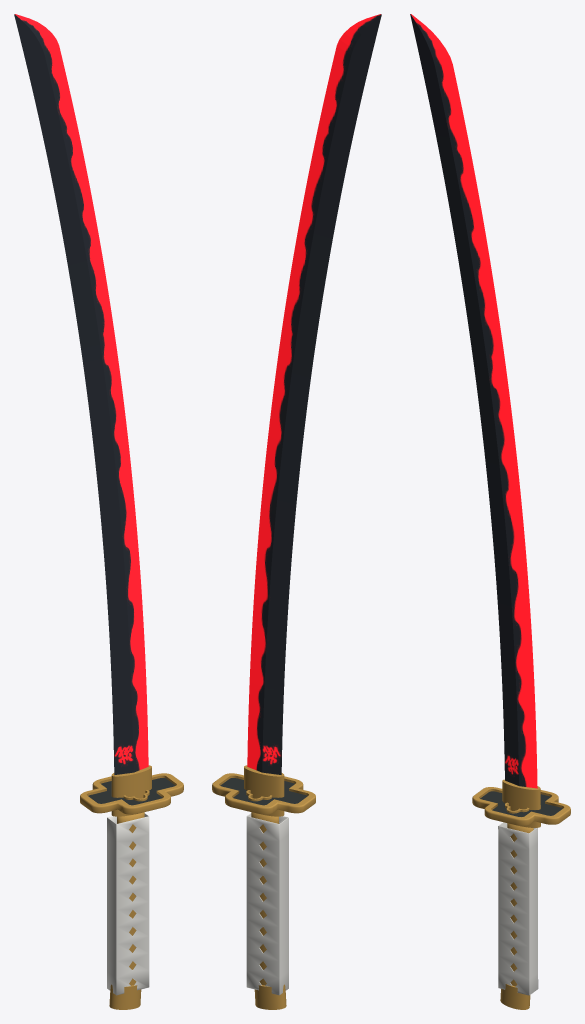
Rendered from RedNichirinKatana.glb.
The picture shows the model from 3 angles, left to right: view 1: azimuth 30°, elevation 25°; view 2: azimuth 150°, elevation 25°; view 3: azimuth 330°, elevation 25°; orthographic projection. The views are drawn at different scales.
Parts seen in each view (by area): view 1: RedNichirinKatana; view 2: RedNichirinKatana; view 3: RedNichirinKatana.
Part boxes in pixels (<box>): RedNichirinKatana: <box>14,14,183,1009</box>; RedNichirinKatana: <box>212,14,381,1009</box>; RedNichirinKatana: <box>410,14,570,1009</box>.
Size of the model in its own units: 0.1762 by 1.05 by 0.0715.
1 material, 1 textured.
